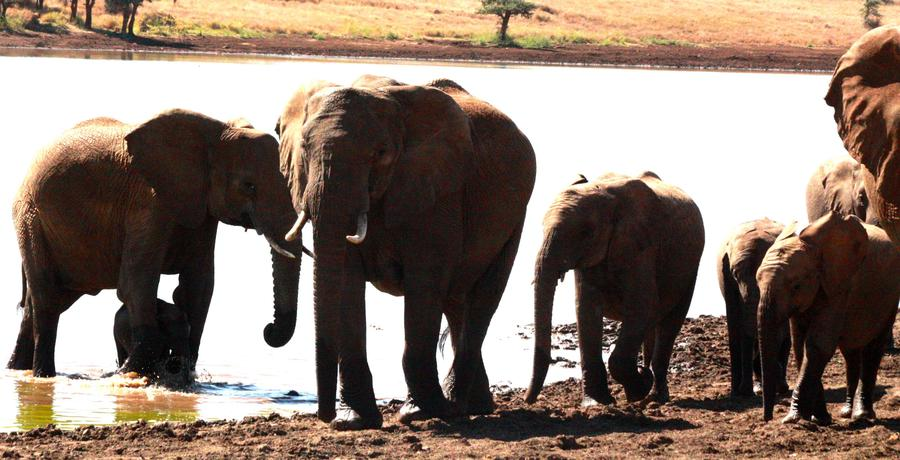elephant: (257, 70, 451, 267), (748, 222, 861, 361)
